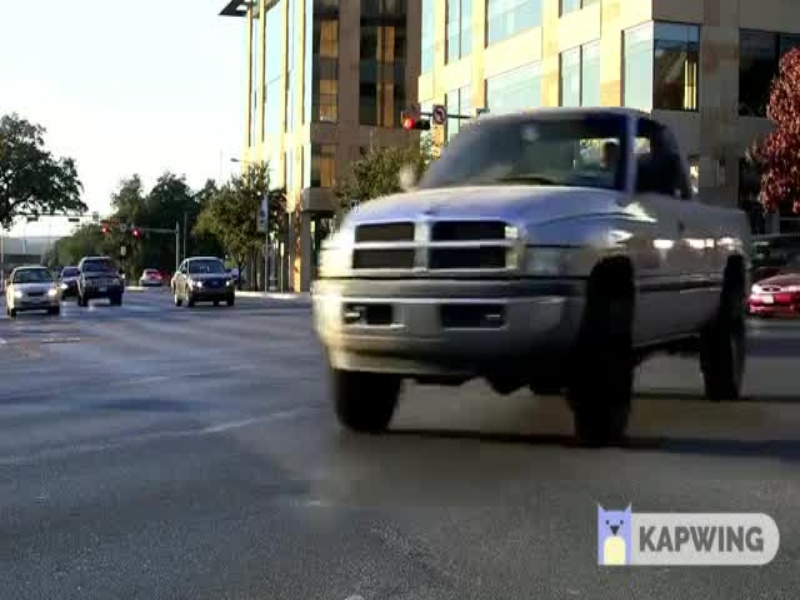car: (160, 247, 249, 306), (4, 261, 71, 322)
truck: (291, 105, 766, 472)
